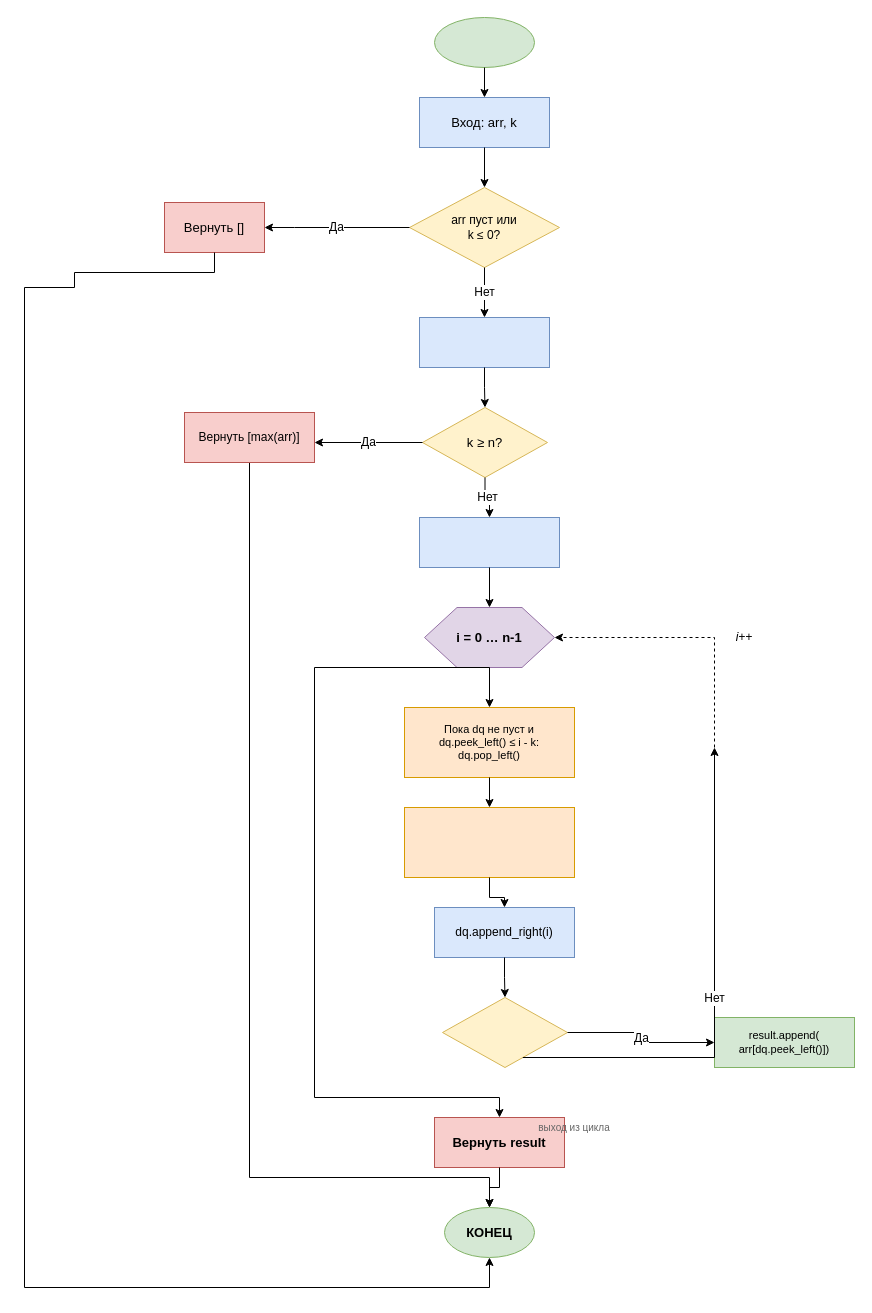
Some shapes in this 872 by 1313 pixel diagram are drawn without their labels. The shapes that lost their labels are listed below. From the top down, each one's box as (x1, y1, x2, y2) in pixels, then its label:
(434, 16, 534, 68): НАЧАЛО
(418, 316, 550, 368): n = len(arr)
(418, 516, 560, 568): dq = Deque() result = []
(404, 806, 574, 878): Пока dq не пуст и arr[dq.peek_right()] ≤ arr[i]: dq.pop_right()
(442, 996, 568, 1068): i ≥ k-1?
